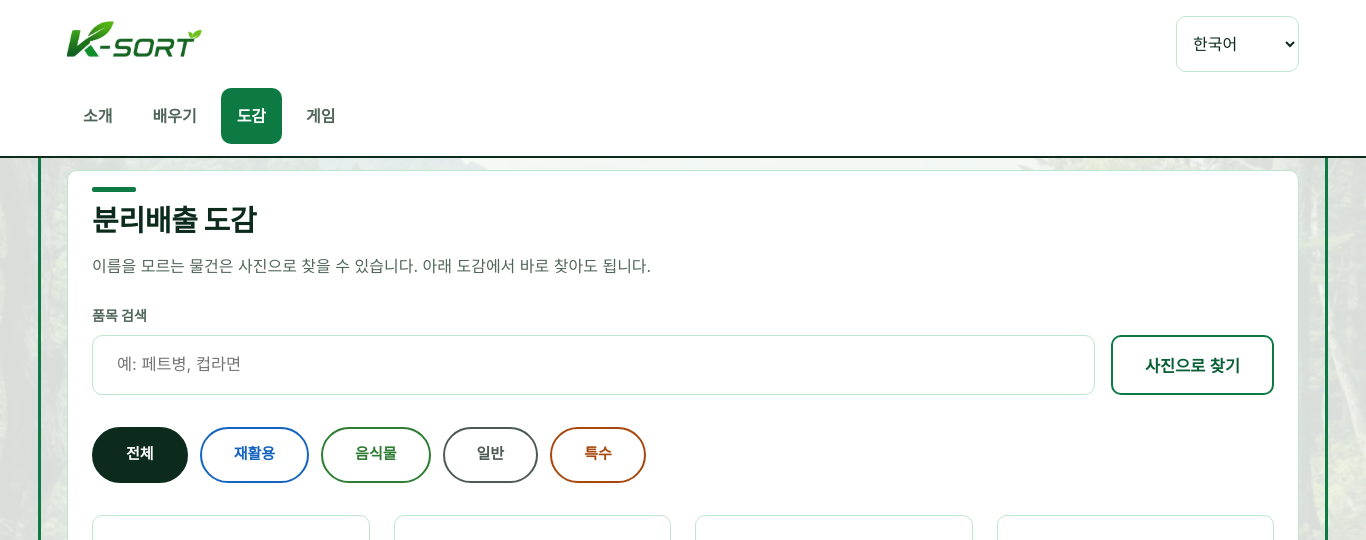
App integration › switches the whole page together when the language changes
Select "Tiếng Việt" in the dropdown: (1238, 44) [1176,16,1299,72]
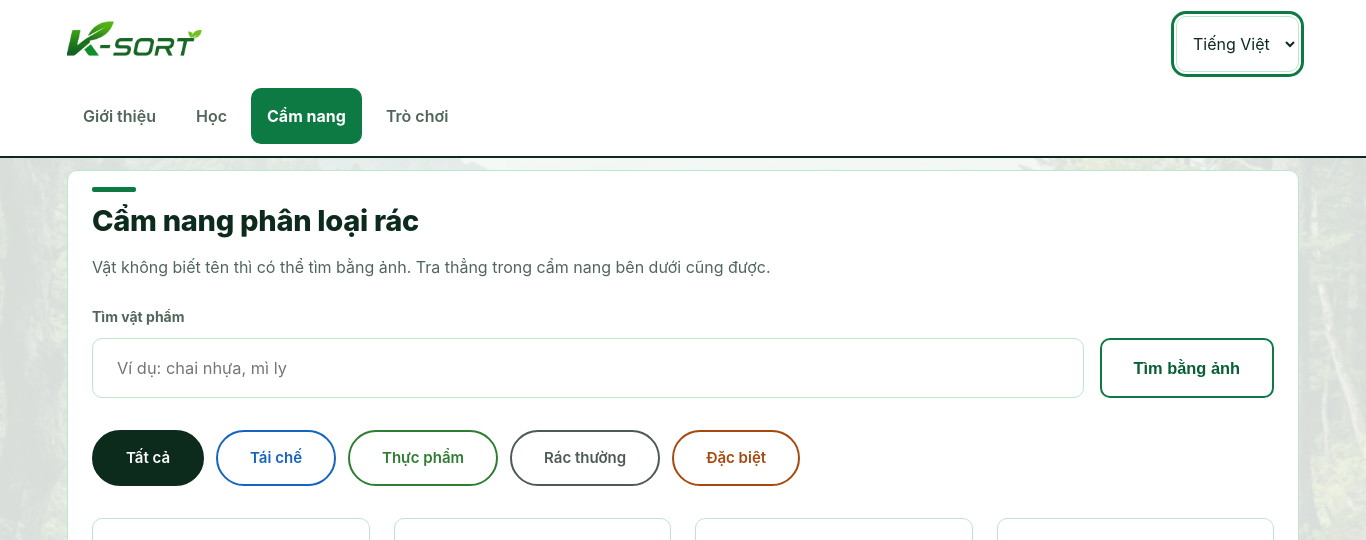
Result: the heading "Cẩm nang phân loại rác" is shown at [92,203,419,238]
Result: the text "Vật không biết tên thì có thể tìm bằng ảnh. Tra thẳng trong cẩm nang bên dưới cũng được." is shown at [92,257,770,277]
Result: the heading "분리배출 도감" is gone
